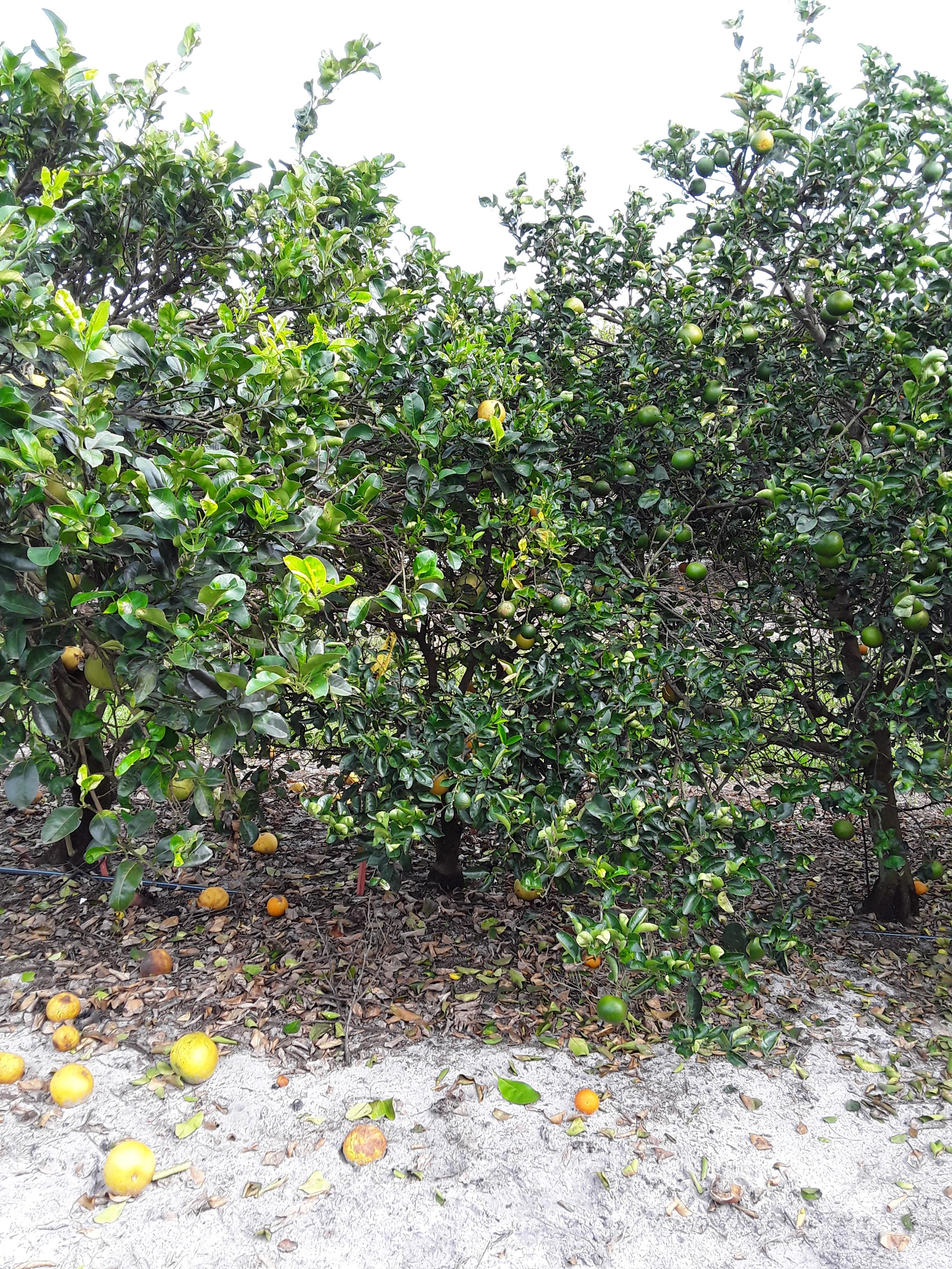fruit_on_ground: (84, 643, 129, 690), (38, 472, 79, 508), (918, 739, 952, 776), (450, 570, 488, 603), (594, 992, 630, 1026), (164, 768, 198, 803), (898, 598, 932, 632), (738, 931, 771, 964), (812, 527, 846, 558), (512, 870, 544, 902), (823, 288, 856, 318), (813, 544, 849, 571), (475, 396, 508, 425), (58, 643, 90, 671), (748, 128, 778, 157), (814, 301, 844, 328), (676, 320, 705, 347), (919, 156, 945, 185), (634, 402, 663, 428), (830, 816, 858, 842), (670, 447, 698, 473), (851, 737, 879, 763), (916, 858, 947, 881), (664, 915, 691, 941), (512, 627, 539, 653), (548, 591, 574, 618), (858, 622, 885, 648), (700, 379, 726, 406), (561, 293, 587, 318), (429, 771, 455, 796), (670, 521, 696, 546), (660, 679, 685, 704), (706, 147, 731, 171), (693, 152, 717, 177), (690, 235, 716, 258), (683, 559, 709, 582), (461, 732, 485, 755), (651, 520, 675, 543), (525, 498, 548, 521), (588, 477, 611, 499), (738, 322, 761, 344), (753, 359, 775, 382), (613, 458, 637, 478), (712, 808, 734, 829), (494, 598, 516, 619), (687, 176, 709, 197), (553, 714, 574, 735), (452, 790, 473, 811), (707, 217, 728, 236), (533, 717, 553, 736), (735, 505, 756, 523), (519, 622, 539, 640), (760, 758, 779, 776), (827, 418, 845, 437), (718, 759, 736, 777), (854, 639, 871, 656)
fruit_on_tree: (101, 1138, 157, 1197), (167, 1031, 220, 1085), (47, 1062, 94, 1109), (341, 1123, 387, 1166), (45, 989, 82, 1023), (138, 946, 174, 979), (48, 1021, 81, 1053), (196, 883, 230, 912), (0, 1050, 27, 1084), (251, 829, 281, 857), (573, 1086, 601, 1115), (265, 892, 290, 919), (9, 1258, 62, 1269), (581, 947, 605, 969), (340, 767, 364, 787), (910, 875, 932, 896), (285, 777, 308, 795), (27, 788, 44, 806), (264, 743, 280, 759), (274, 1073, 290, 1088)
